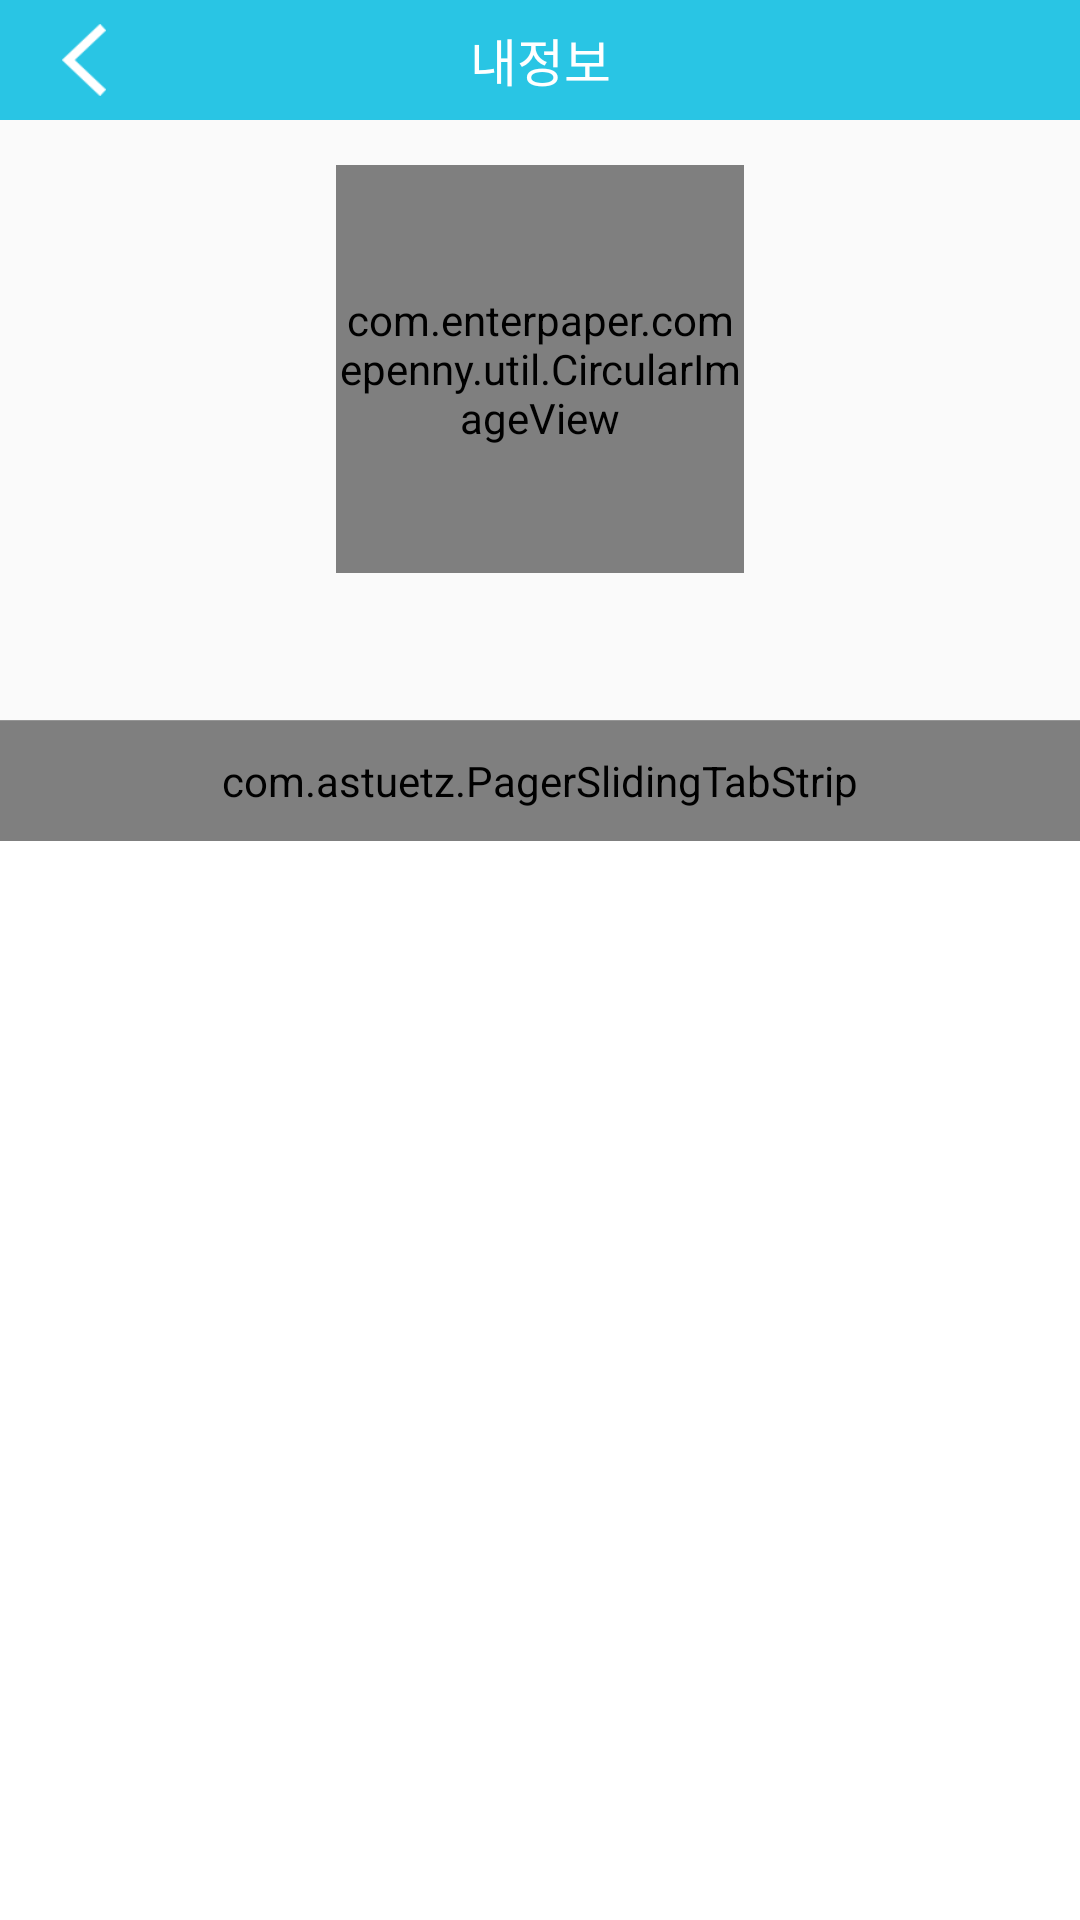

Point at icon controls on the screen. Image size 1080w x 1920h, points as (x=x, y=y).
booth back: (x=84, y=60)
